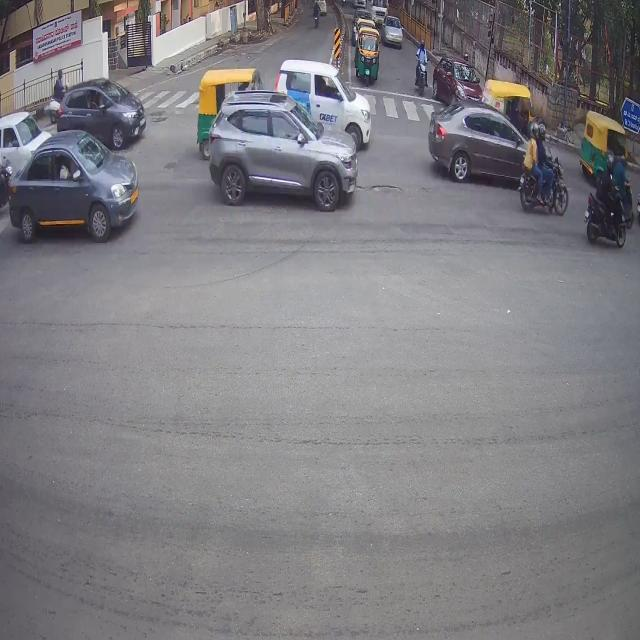Car: (227, 101, 351, 215), (23, 159, 122, 240), (282, 62, 374, 148), (438, 105, 532, 185), (61, 88, 152, 151), (440, 55, 483, 108), (2, 111, 46, 162), (383, 14, 405, 51)
Three-wheeler: (195, 68, 265, 136), (586, 110, 626, 179), (492, 74, 536, 129), (358, 39, 380, 84)
Two-wheelers: (591, 164, 629, 260), (524, 126, 566, 207), (414, 42, 432, 94)
